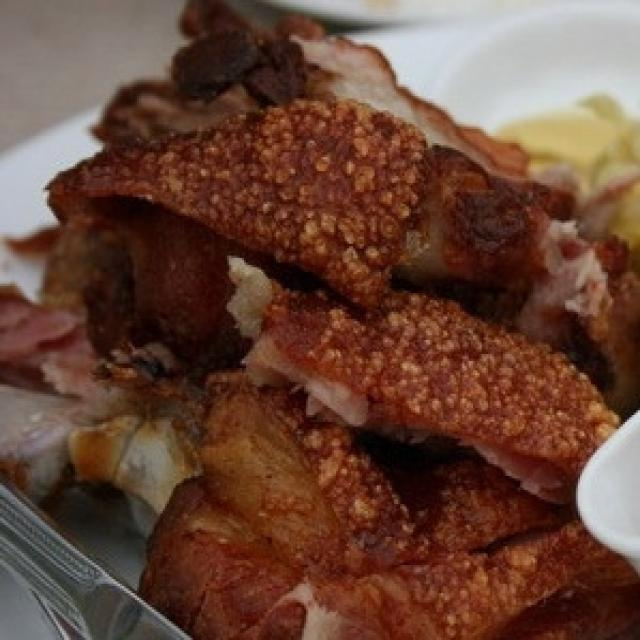猪肉菜式: (26, 33, 599, 598)
